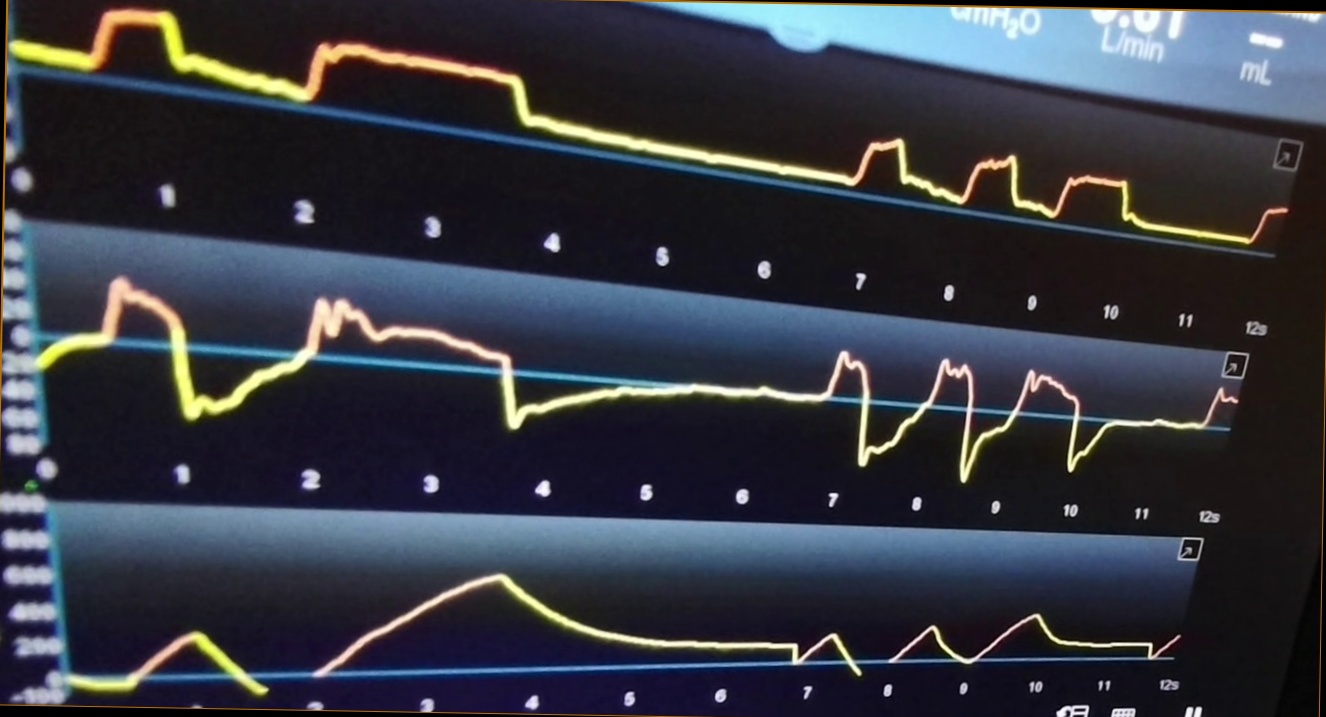Accumulation Flow: (45, 282, 1236, 481)
Volume: (70, 532, 1178, 698)
